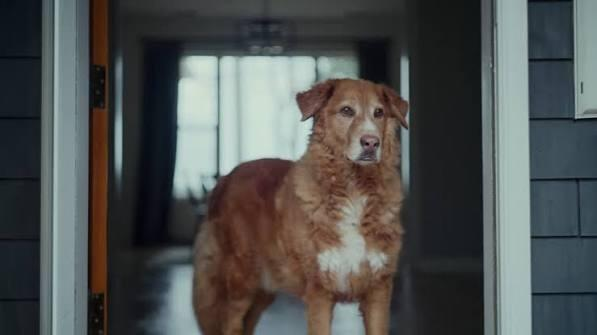adult_dog: (190, 76, 411, 335)
